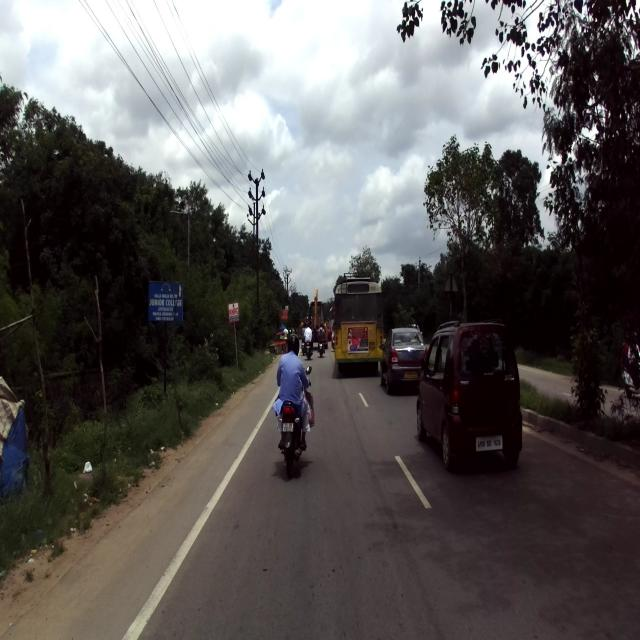bus: (333, 270, 385, 374)
car: (415, 317, 523, 470), (379, 327, 426, 390)
motorcycle: (273, 364, 313, 479)
